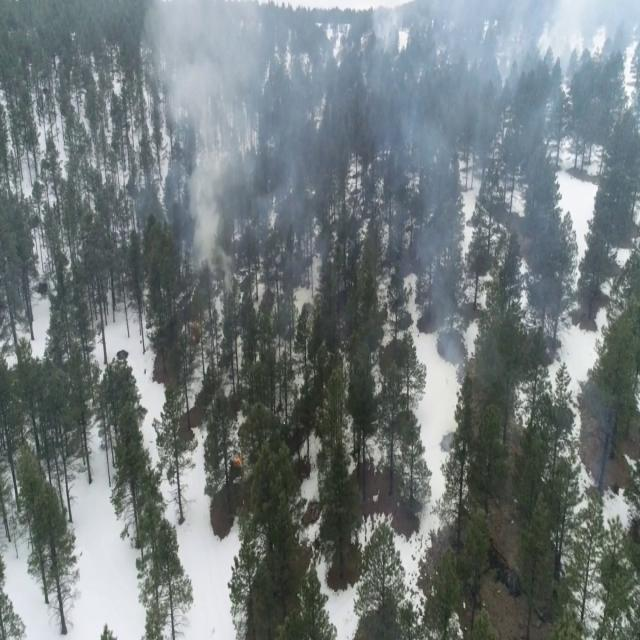fire: (192, 318, 199, 336), (234, 456, 242, 468)
